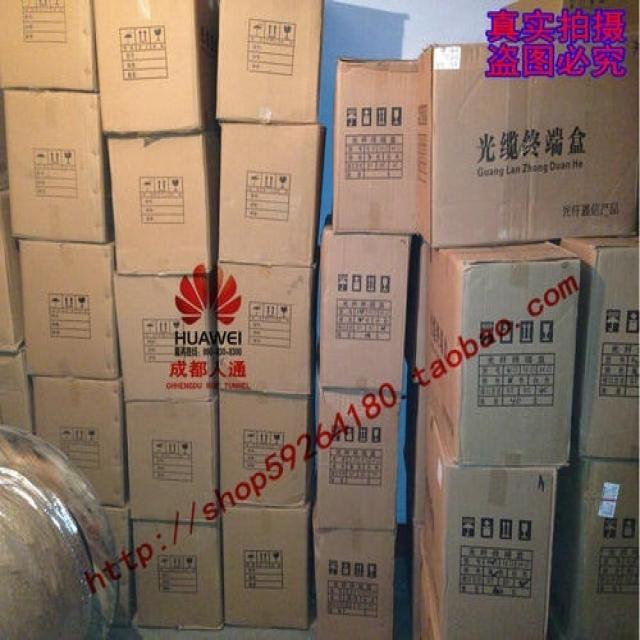box: (418, 43, 637, 246), (418, 232, 580, 468), (418, 390, 556, 638), (552, 237, 638, 459), (1, 90, 114, 243), (92, 1, 220, 135), (315, 213, 410, 389), (547, 459, 639, 638), (109, 134, 220, 275), (217, 122, 326, 265), (334, 60, 418, 233), (20, 241, 121, 378), (115, 267, 218, 400), (218, 264, 318, 396), (217, 1, 324, 124), (30, 376, 130, 506), (315, 377, 399, 531), (126, 393, 221, 523), (223, 501, 317, 629), (221, 390, 314, 506), (133, 519, 223, 629), (0, 0, 98, 94), (314, 530, 393, 638), (105, 499, 137, 620), (410, 523, 439, 638)
